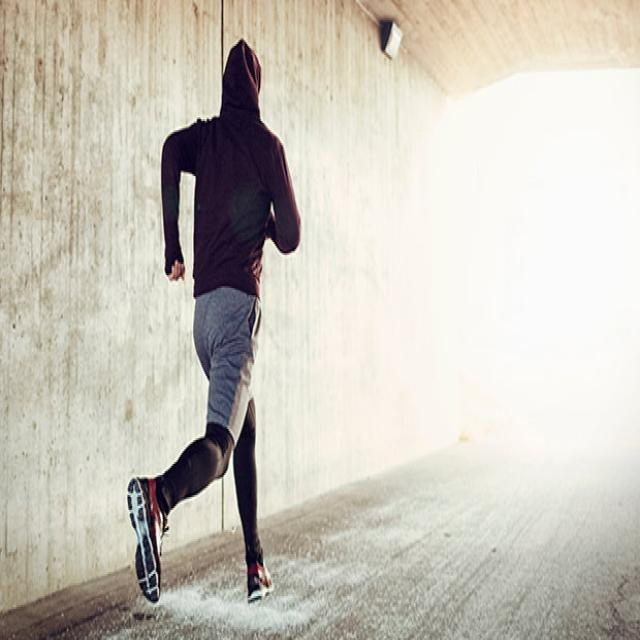Person: (128, 38, 300, 602)
